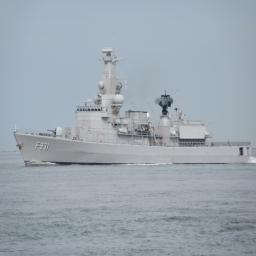Fragata: (13, 47, 254, 169)
